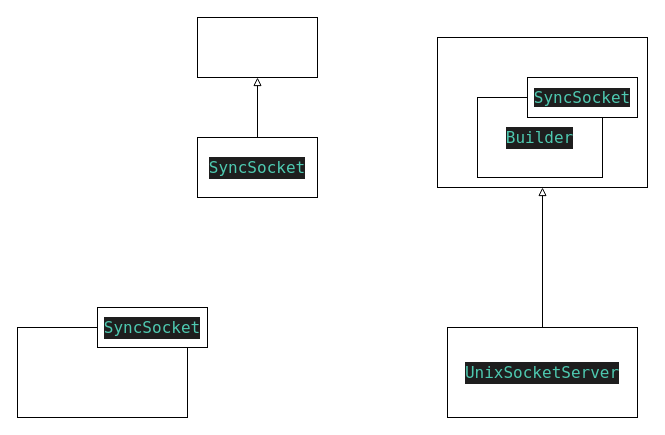
Some shapes in this 665 by 435 pixel diagram are drawn without their labels. The shapes that lost their labels are listed below. From the top down, each one's box as (x1, y1, x2, y2) in pixels, then its label:
(196, 16, 318, 78): Socket
(436, 36, 648, 188): SocketServer
(16, 326, 188, 418): UnixSocketClient
